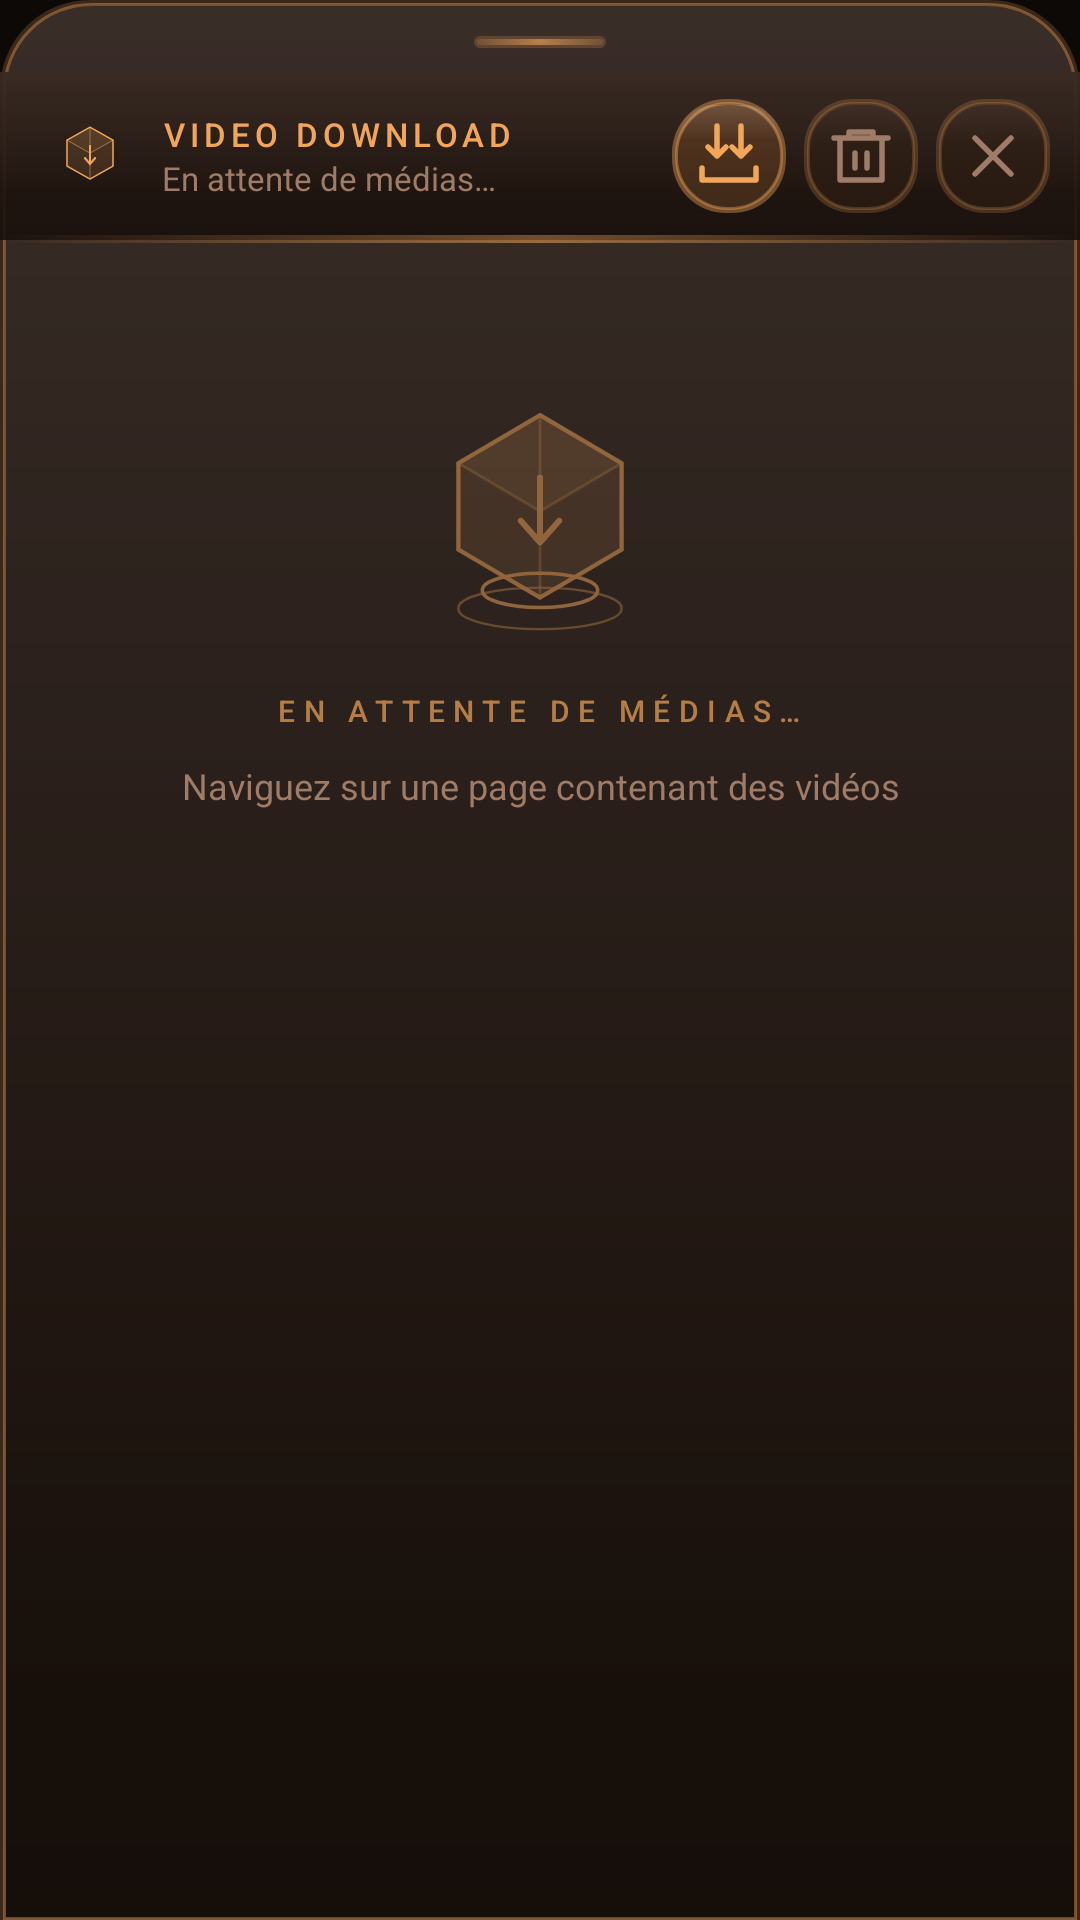

Icons on this 1080×1920 Android screen, each with its box as {"left": x1, "top": y1, "right": x2, "bottom": y2}:
cube: {"left": 66, "top": 126, "right": 114, "bottom": 180}, {"left": 456, "top": 413, "right": 624, "bottom": 630}
Fermer: {"left": 936, "top": 99, "right": 1050, "bottom": 213}
Tout télécharger: {"left": 672, "top": 99, "right": 786, "bottom": 213}
Vider: {"left": 804, "top": 99, "right": 918, "bottom": 213}
